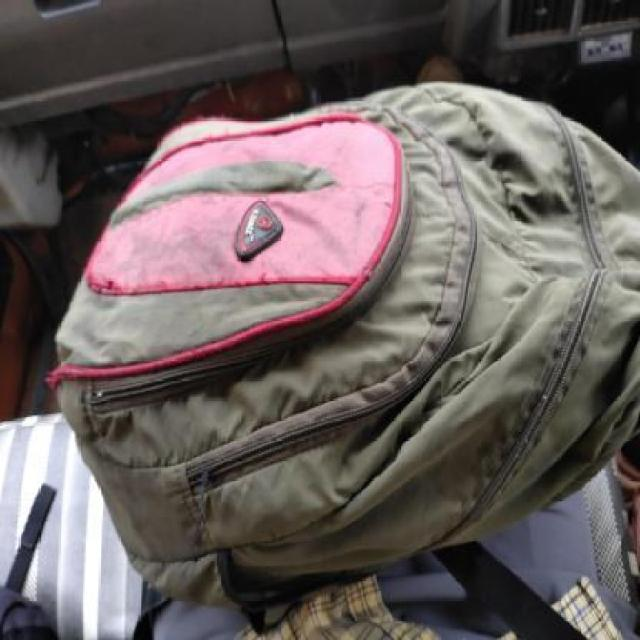backpack: (40, 77, 640, 615)
